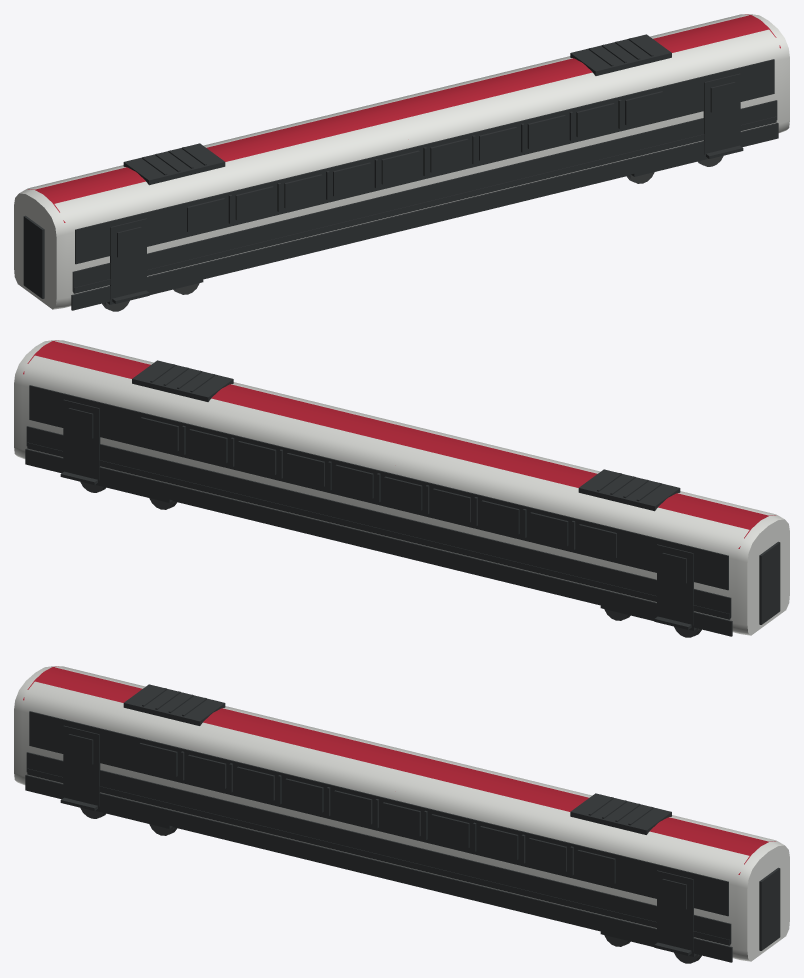
File: railjet-nextgen-economy-b.glb
3 renders of one model, top to bottom at view 1: azimuth 30°, elevation 25°; view 2: azimuth 150°, elevation 25°; view 3: azimuth 330°, elevation 25°, orthographic.
Visible parts, largest first — view 1: economy_b_lofted_body, economy_b_black_window_ribbon_-1, economy_b_red_roof, economy_b_silver_flank_-1, economy_b_dark_skirt_-1, economy_b_red_sill_-1, economy_b_hvac_0, economy_b_hvac_1, economy_b_wide_door_-1_1, economy_b_wide_door_-1_0, gangway_1.004, economy_b_window_-1_5 (+12 smaller); view 2: economy_b_lofted_body, economy_b_black_window_ribbon_1, economy_b_red_roof, economy_b_silver_flank_1, economy_b_dark_skirt_1, economy_b_red_sill_1, economy_b_hvac_0, economy_b_hvac_1, economy_b_wide_door_1_1, economy_b_wide_door_1_0, gangway_1.004, economy_b_window_1_5 (+14 smaller); view 3: economy_b_lofted_body, economy_b_black_window_ribbon_-1, economy_b_red_roof, economy_b_silver_flank_-1, economy_b_dark_skirt_-1, economy_b_red_sill_-1, economy_b_hvac_0, economy_b_hvac_1, economy_b_wide_door_-1_0, economy_b_wide_door_-1_1, gangway_0.004, economy_b_window_-1_4 (+12 smaller).
Part boxes in pixels (x1,y1,x2,y2): economy_b_lofted_body: (14, 14, 789, 309); economy_b_black_window_ribbon_-1: (75, 59, 774, 264); economy_b_red_roof: (28, 14, 780, 222); economy_b_silver_flank_-1: (72, 100, 777, 291); economy_b_dark_skirt_-1: (71, 122, 778, 310); economy_b_red_sill_-1: (73, 116, 776, 293); economy_b_hvac_0: (123, 143, 225, 185); economy_b_hvac_1: (570, 34, 671, 75); economy_b_wide_door_-1_1: (703, 73, 740, 154); economy_b_wide_door_-1_0: (110, 218, 146, 299); gangway_1.004: (23, 215, 44, 298); economy_b_window_-1_5: (430, 138, 468, 172); economy_b_lofted_body: (14, 340, 789, 635); economy_b_black_window_ribbon_1: (29, 385, 728, 590); economy_b_red_roof: (23, 340, 775, 548); economy_b_silver_flank_1: (26, 426, 731, 617); economy_b_dark_skirt_1: (25, 448, 732, 636); economy_b_red_sill_1: (27, 442, 730, 619); economy_b_hvac_0: (578, 469, 680, 511); economy_b_hvac_1: (132, 360, 233, 401); economy_b_wide_door_1_1: (63, 399, 100, 480); economy_b_wide_door_1_0: (657, 544, 693, 625); gangway_1.004: (759, 541, 780, 624); economy_b_window_1_5: (335, 464, 373, 498); economy_b_lofted_body: (14, 666, 789, 961); economy_b_black_window_ribbon_-1: (29, 711, 728, 916); economy_b_red_roof: (23, 666, 775, 874); economy_b_silver_flank_-1: (26, 752, 731, 943); economy_b_dark_skirt_-1: (25, 774, 732, 962); economy_b_red_sill_-1: (27, 768, 730, 945); economy_b_hvac_0: (123, 684, 225, 725); economy_b_hvac_1: (570, 793, 671, 834); economy_b_wide_door_-1_0: (63, 725, 100, 806); economy_b_wide_door_-1_1: (657, 870, 693, 951); gangway_0.004: (759, 867, 780, 950); economy_b_window_-1_4: (334, 790, 372, 824).
Bounding box in the file's own units: 26.6 × 4.32 × 3.42.
